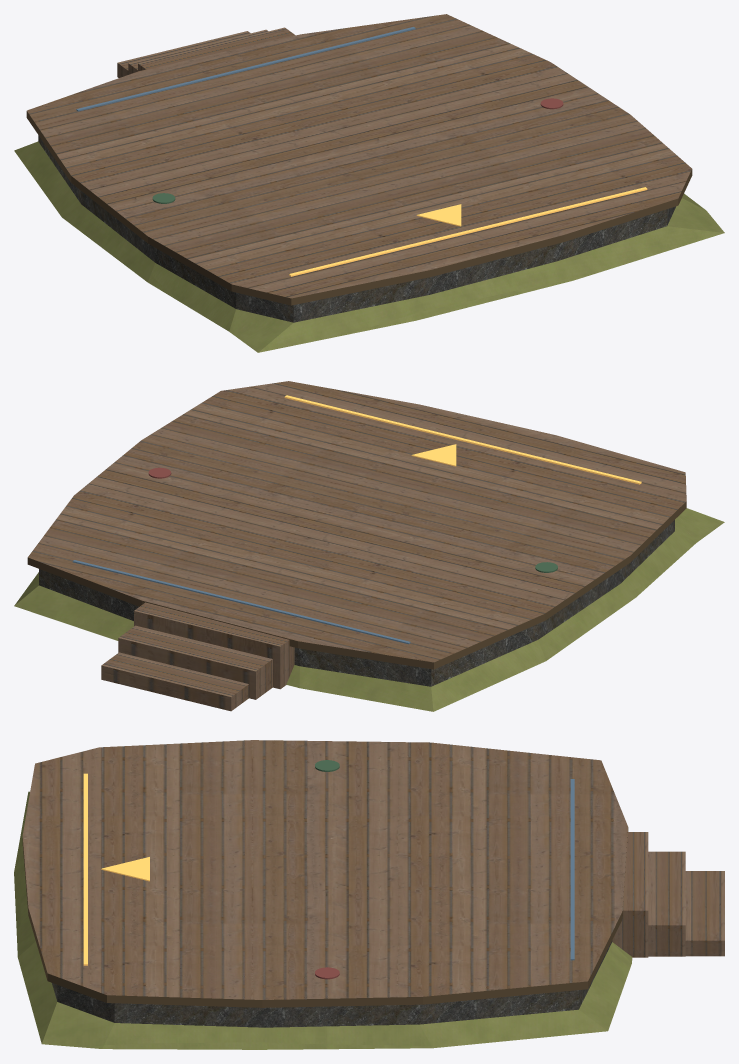
Rendered from forest-stage.glb.
3 views of the same model, one above another, from view 1: azimuth 30°, elevation 25°; view 2: azimuth 150°, elevation 25°; view 3: azimuth 270°, elevation 25° (orthographic). The views are drawn at different scales.
Visible parts, largest first — view 1: ForestStage_Platform, ForestStage_ContactApron, ForestStage_Plinth, ForestStageStep_upstage-high-step, ForestStageCue_DownstageLine, ForestStageCue_UpstageLine, ForestStageStep_upstage-low-step, ForestStageCue_DownstageTriangle; view 2: ForestStage_Platform, ForestStage_ContactApron, ForestStage_Plinth, ForestStageStep_upstage-middle-step, ForestStageStep_upstage-low-step, ForestStageStep_upstage-high-step, ForestStageCue_DownstageLine, ForestStageCue_UpstageLine, ForestStageCue_DownstageTriangle; view 3: ForestStage_Platform, ForestStage_ContactApron, ForestStage_Plinth, ForestStageStep_upstage-middle-step, ForestStageStep_upstage-low-step, ForestStageStep_upstage-high-step, ForestStageCue_DownstageLine, ForestStageCue_UpstageLine, ForestStageCue_DownstageTriangle.
Boxes of the visible parts, box(x1,y1,x2,y2) form: ForestStage_Platform: box(26, 14, 692, 305); ForestStage_ContactApron: box(14, 141, 724, 352); ForestStage_Plinth: box(38, 135, 675, 322); ForestStageStep_upstage-high-step: box(138, 27, 295, 71); ForestStageCue_DownstageLine: box(289, 187, 647, 276); ForestStageCue_UpstageLine: box(76, 27, 415, 111); ForestStageStep_upstage-low-step: box(117, 31, 250, 77); ForestStageCue_DownstageTriangle: box(416, 204, 461, 226); ForestStage_Platform: box(27, 381, 686, 669); ForestStage_ContactApron: box(14, 508, 724, 711); ForestStage_Plinth: box(39, 520, 674, 686); ForestStageStep_upstage-middle-step: box(118, 625, 272, 699); ForestStageStep_upstage-low-step: box(101, 652, 248, 711); ForestStageStep_upstage-high-step: box(134, 602, 294, 689); ForestStageCue_DownstageLine: box(284, 395, 641, 484); ForestStageCue_UpstageLine: box(72, 560, 410, 644); ForestStageCue_DownstageTriangle: box(411, 444, 456, 466); ForestStage_Platform: box(22, 740, 628, 1007); ForestStage_ContactApron: box(14, 791, 632, 1049); ForestStage_Plinth: box(52, 941, 611, 1027); ForestStageStep_upstage-middle-step: box(648, 851, 685, 956); ForestStageStep_upstage-low-step: box(685, 871, 724, 956); ForestStageStep_upstage-high-step: box(612, 832, 648, 957); ForestStageCue_DownstageLine: box(83, 773, 87, 965); ForestStageCue_UpstageLine: box(570, 779, 574, 960); ForestStageCue_DownstageTriangle: box(101, 857, 149, 881).
Bounding box in the file's own units: 6.52 × 0.611 × 7.42.
Materials: 6 (6 with a texture image).
